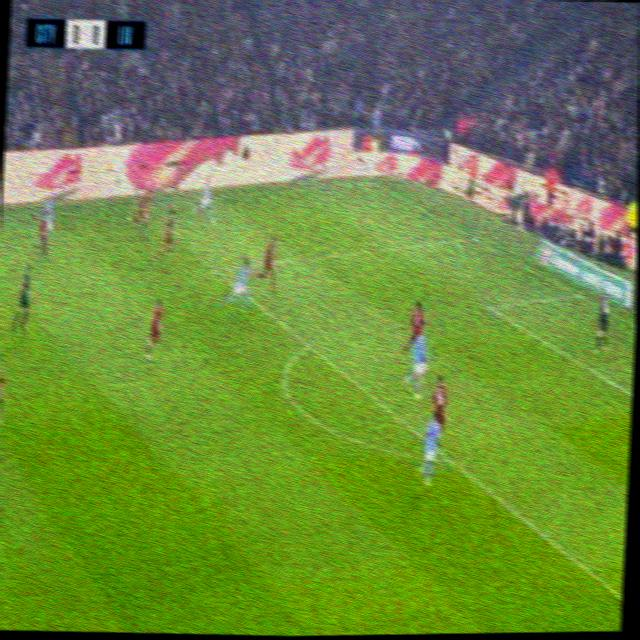bigarea_top_inner: (210, 261, 222, 279)
bigarea_top_outter: (466, 231, 479, 245)
bottom_arc_area_intersection: (441, 451, 458, 470)
corner: (365, 180, 378, 189)
smallarea_top_inner: (482, 295, 498, 319)
smallarea_top_outter: (570, 287, 583, 300)
top_arc_area_intersection: (301, 335, 318, 358)
